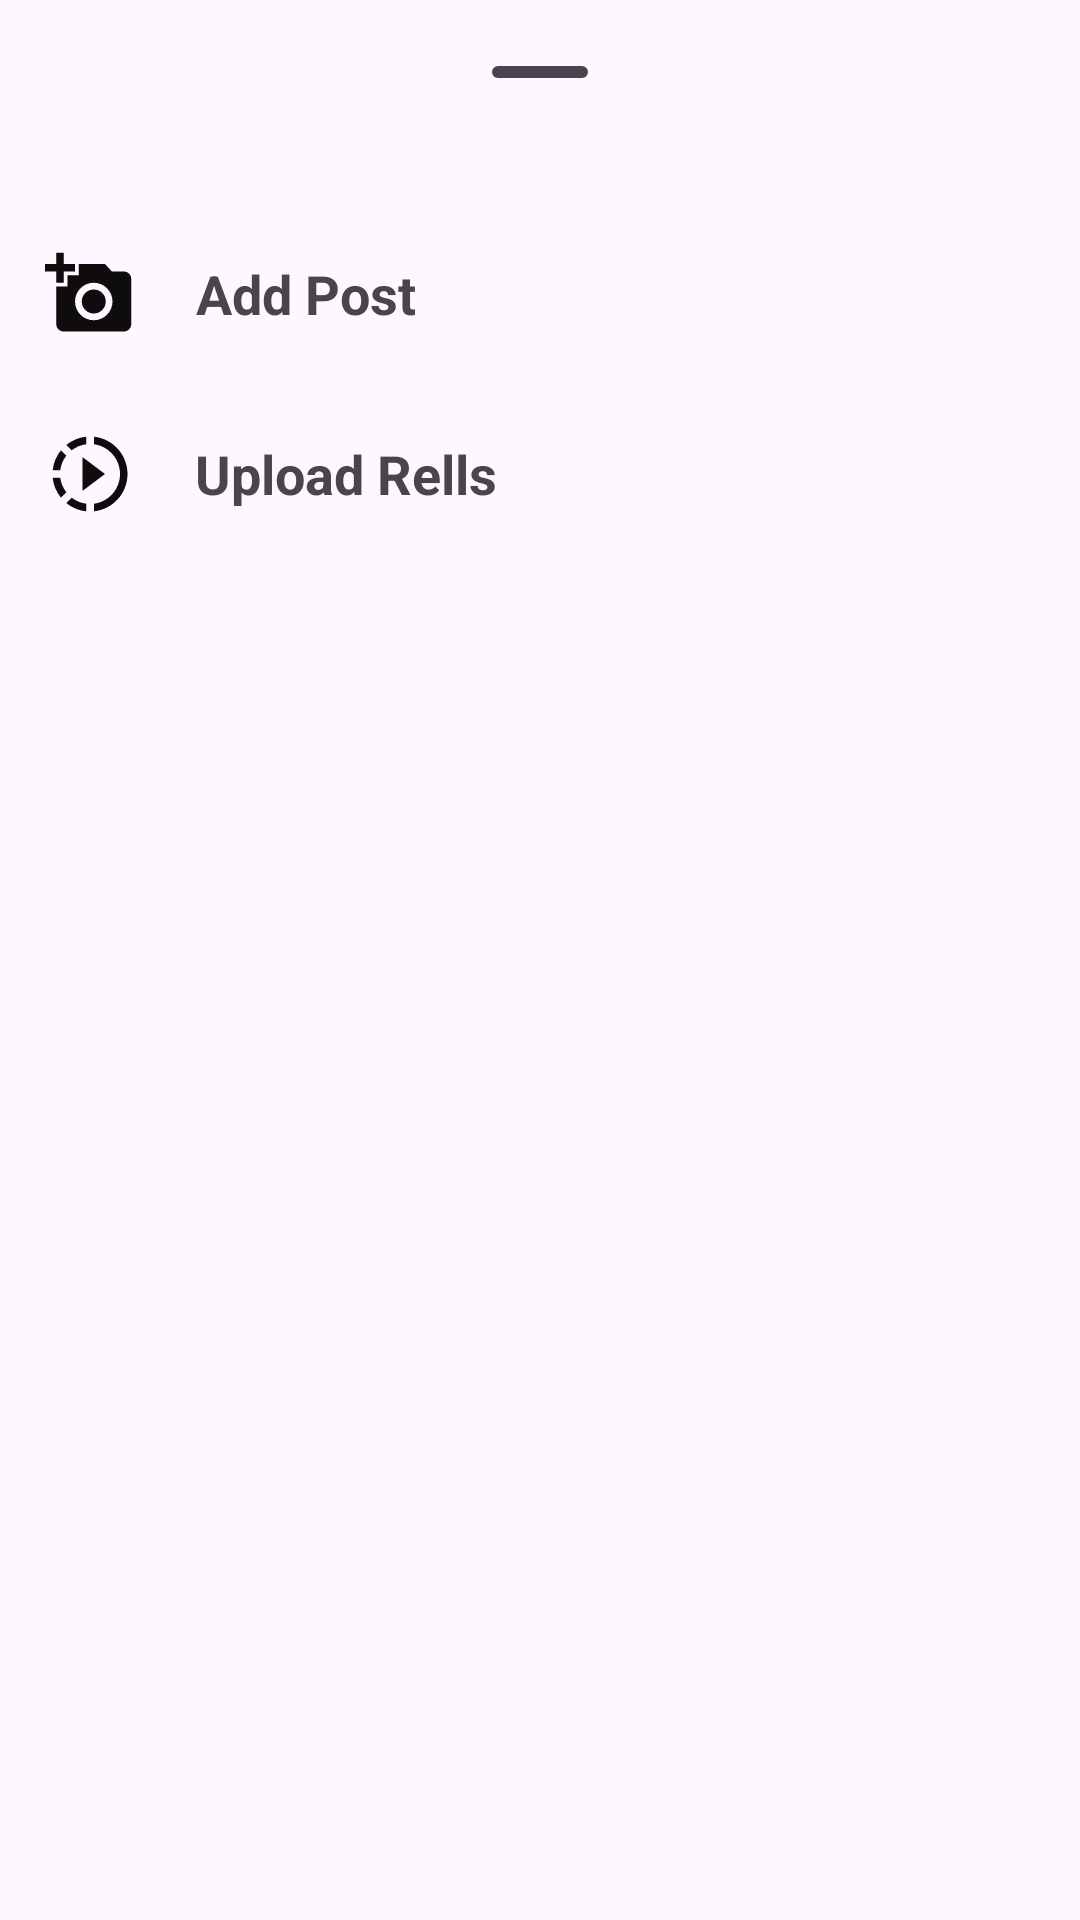

Named icons in this screenshot (1080x1920) and their centers, (x,y):
slow motion video: (90,474)
